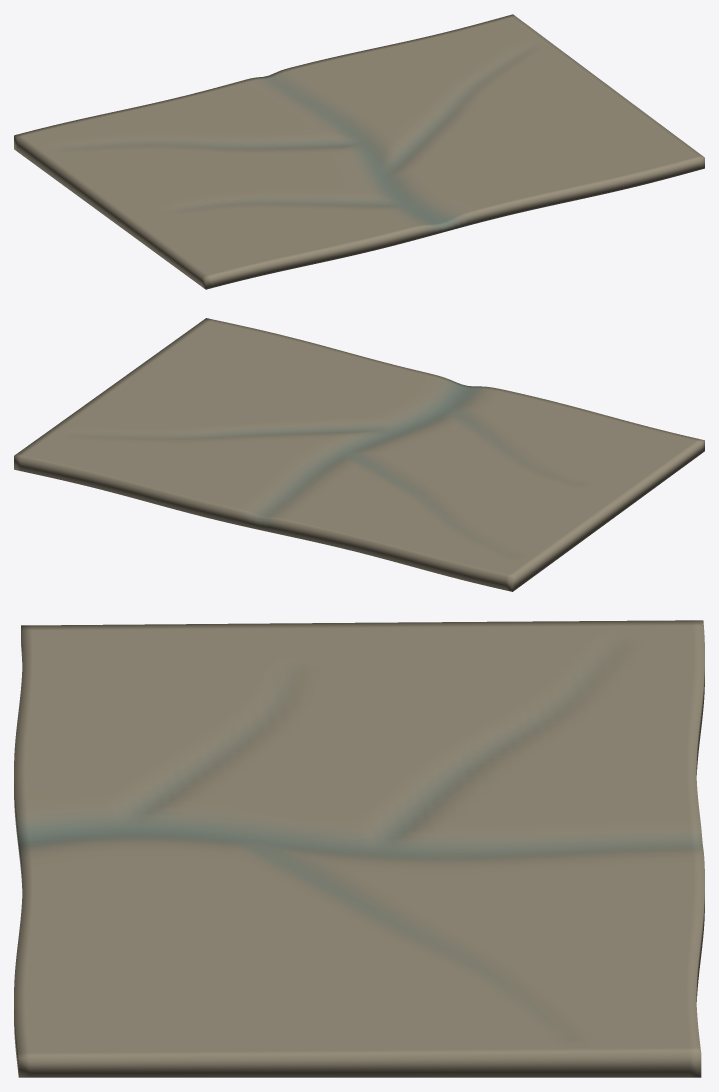
The model's file is tidal-flat.glb.
3 renders of one model, top to bottom at view 1: azimuth 30°, elevation 25°; view 2: azimuth 150°, elevation 25°; view 3: azimuth 270°, elevation 25°, orthographic. The views are drawn at different scales.
Visible parts, largest first — view 1: six-metre continuous low-gradient tidal-flat patch with conn; view 2: six-metre continuous low-gradient tidal-flat patch with conn; view 3: six-metre continuous low-gradient tidal-flat patch with conn.
Part boxes in pixels (box(x1,y1,x2,y2)): six-metre continuous low-gradient tidal-flat patch with conn: box(14, 14, 704, 289); six-metre continuous low-gradient tidal-flat patch with conn: box(14, 318, 704, 591); six-metre continuous low-gradient tidal-flat patch with conn: box(14, 620, 704, 1077).
Size of the model in its own units: 6 by 0.1602 by 4.05.
